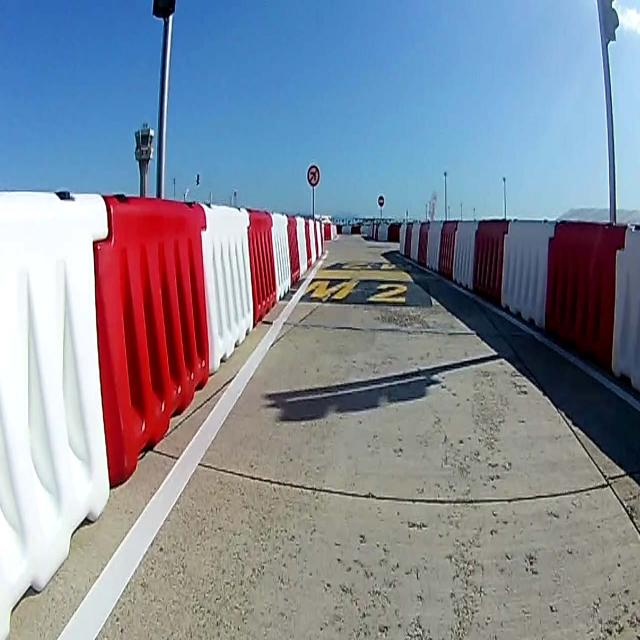girisyok: (378, 196, 385, 208)
soladonulmez: (306, 164, 320, 187)
